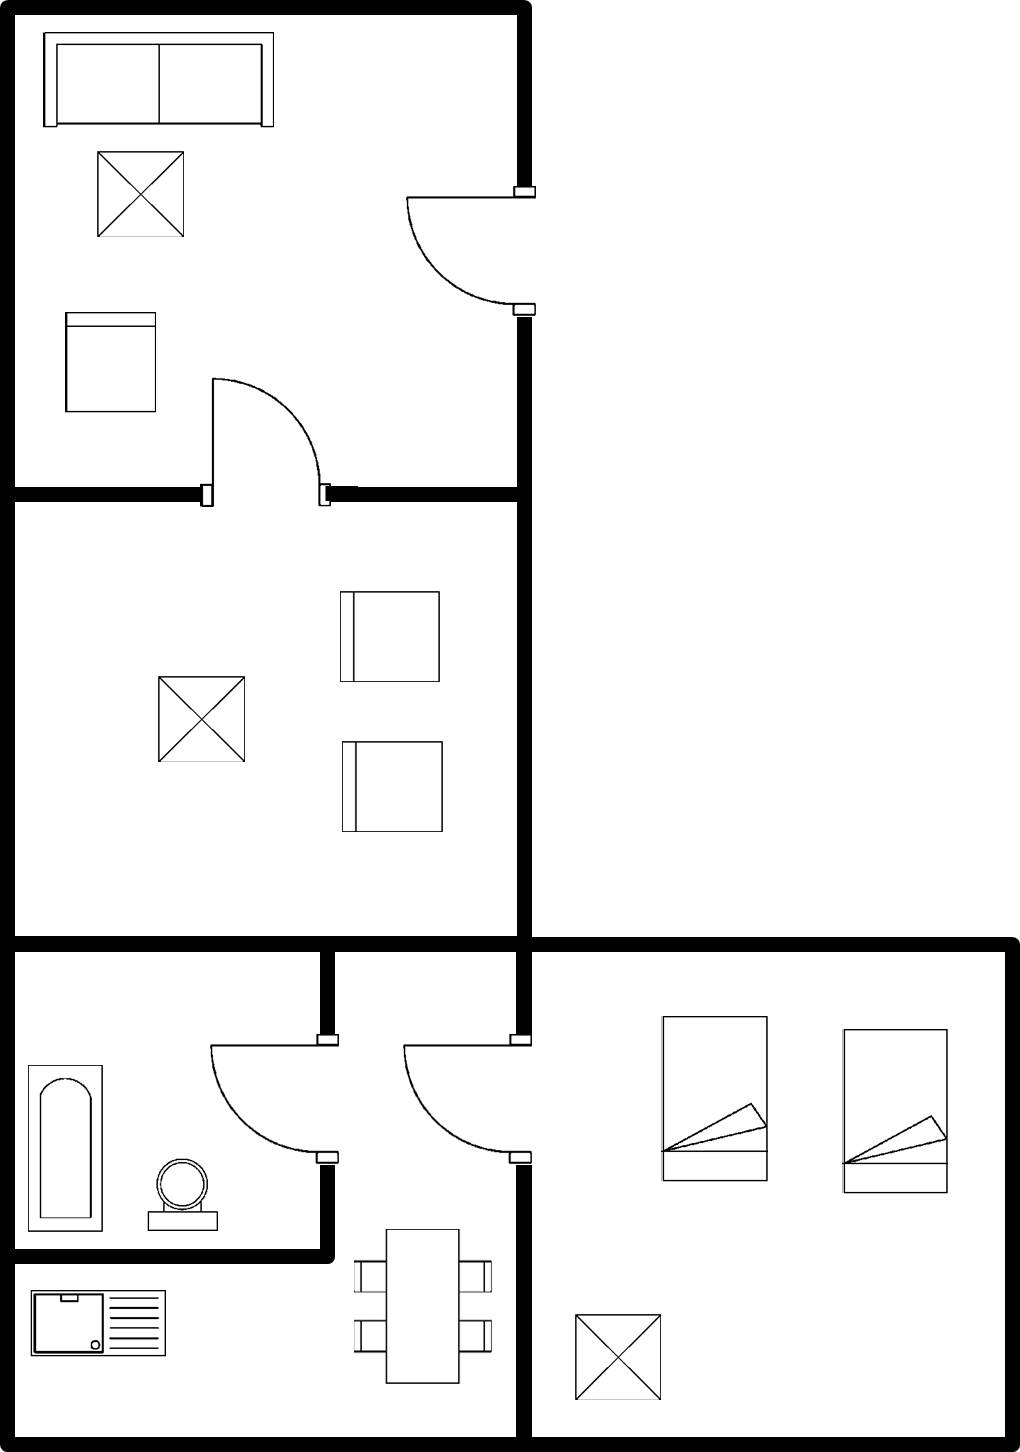bed: (832, 1022, 959, 1206), (653, 1009, 777, 1193)
coffee_table: (144, 667, 256, 772), (91, 143, 199, 248), (565, 1307, 672, 1407)
dining_table: (345, 1219, 500, 1395)
large_sink: (137, 1151, 225, 1241)
large_sofa: (32, 17, 284, 136)
sink: (22, 1284, 173, 1365)
small_sofa: (327, 736, 451, 844), (329, 581, 446, 696), (58, 305, 166, 426)
tub: (20, 1058, 118, 1241)
